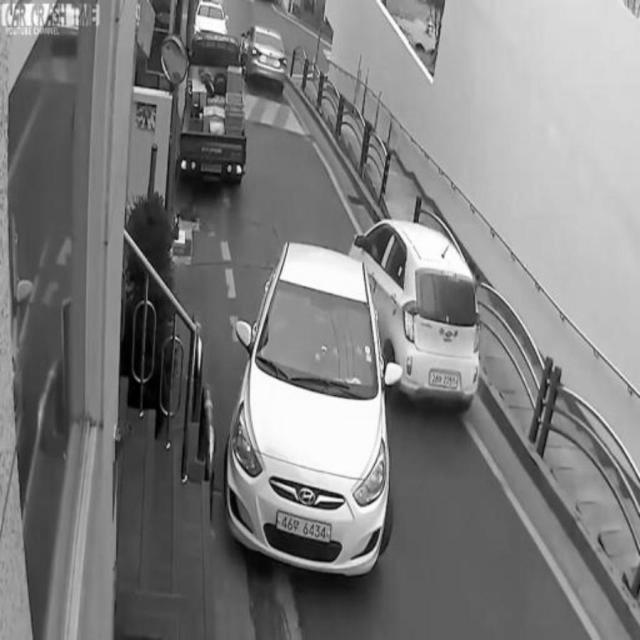vehicle: (228, 239, 386, 569), (368, 213, 481, 413), (176, 29, 246, 189), (242, 22, 290, 93)
